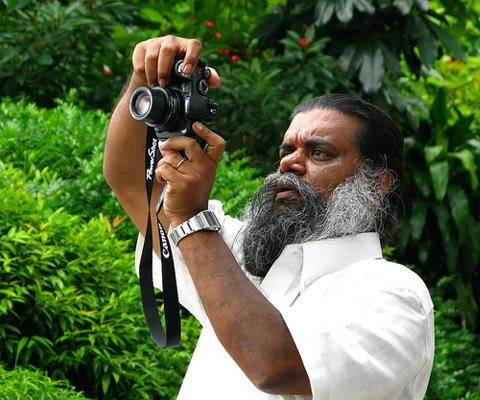person: (104, 34, 435, 399)
